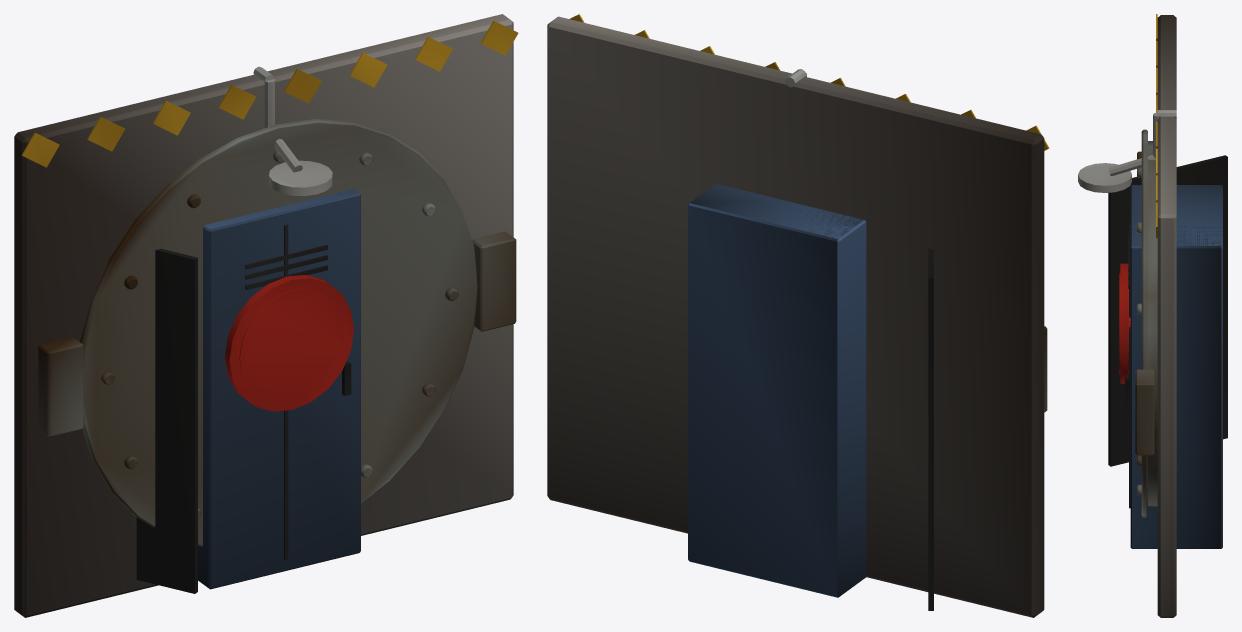
Rendered from r2_eclusa.glb.
3 views of the same model, side by side, from view 1: azimuth 30°, elevation 25°; view 2: azimuth 150°, elevation 25°; view 3: azimuth 270°, elevation 25° (orthographic). The views are drawn at different scales.
Parts seen in each view (by area): view 1: porta_eclusa_r2, armario_epi_azul, armario_epi_aberto, chuveiro_r2; view 2: porta_eclusa_r2, armario_epi_azul, armario_epi_aberto; view 3: armario_epi_aberto, porta_eclusa_r2, armario_epi_azul, chuveiro_r2.
Boxes of the visible parts, x1,y1,x2,y2 form: porta_eclusa_r2: [14, 14, 518, 617]; armario_epi_azul: [208, 189, 360, 589]; armario_epi_aberto: [136, 189, 358, 593]; chuveiro_r2: [253, 66, 332, 195]; porta_eclusa_r2: [547, 14, 1049, 617]; armario_epi_azul: [688, 194, 863, 597]; armario_epi_aberto: [690, 183, 933, 610]; armario_epi_aberto: [1108, 155, 1227, 548]; porta_eclusa_r2: [1119, 14, 1176, 617]; armario_epi_azul: [1125, 185, 1222, 548]; chuveiro_r2: [1078, 110, 1176, 192].
Size of the model in its own units: 3.03 by 2.83 by 0.942.
